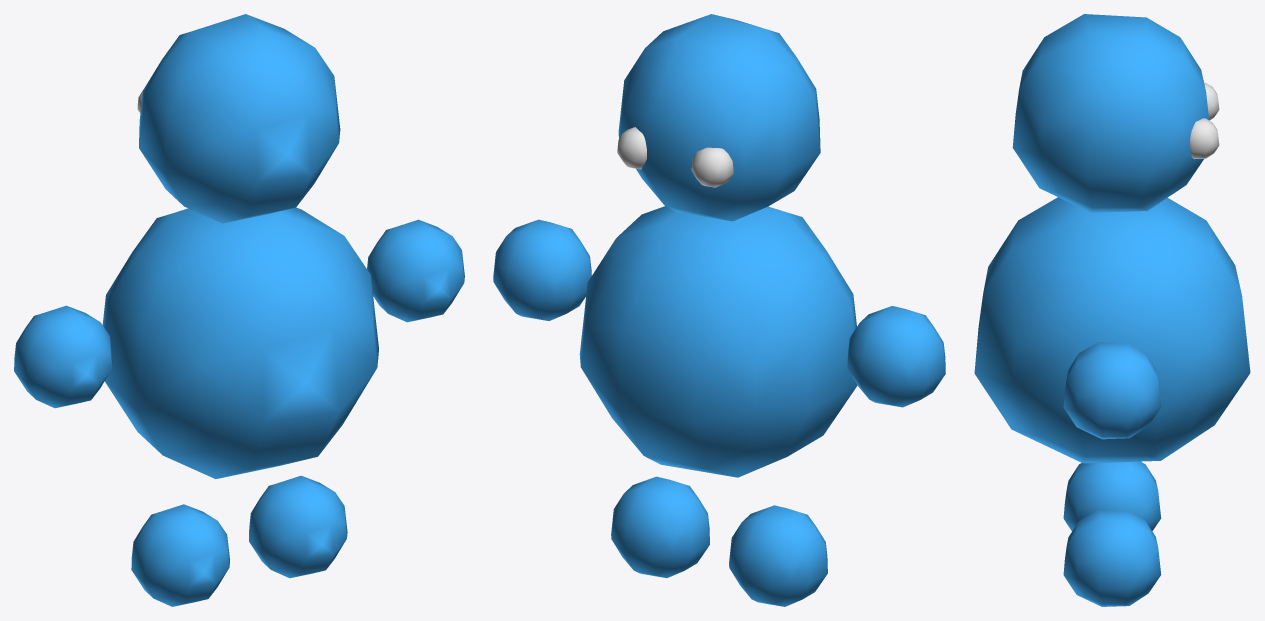
The model's file is Suspect_Base_Model_Animated.fbx.
3 views of the same model, side by side, from view 1: azimuth 30°, elevation 25°; view 2: azimuth 150°, elevation 25°; view 3: azimuth 270°, elevation 25° (orthographic).
Visible parts, largest first — view 1: Body, Hands; view 2: Body, Hands, Eyes; view 3: Body, Hands, Eyes.
Boxes of the visible parts, bbox=[...] form: Body: bbox=[102, 14, 378, 606]; Hands: bbox=[14, 219, 464, 408]; Body: bbox=[579, 14, 857, 606]; Hands: bbox=[493, 219, 945, 407]; Eyes: bbox=[617, 127, 733, 187]; Body: bbox=[974, 14, 1250, 606]; Hands: bbox=[1063, 342, 1160, 439]; Eyes: bbox=[1190, 82, 1219, 158].
Size of the model in its own units: 2.06 by 3.73 by 4.54.
